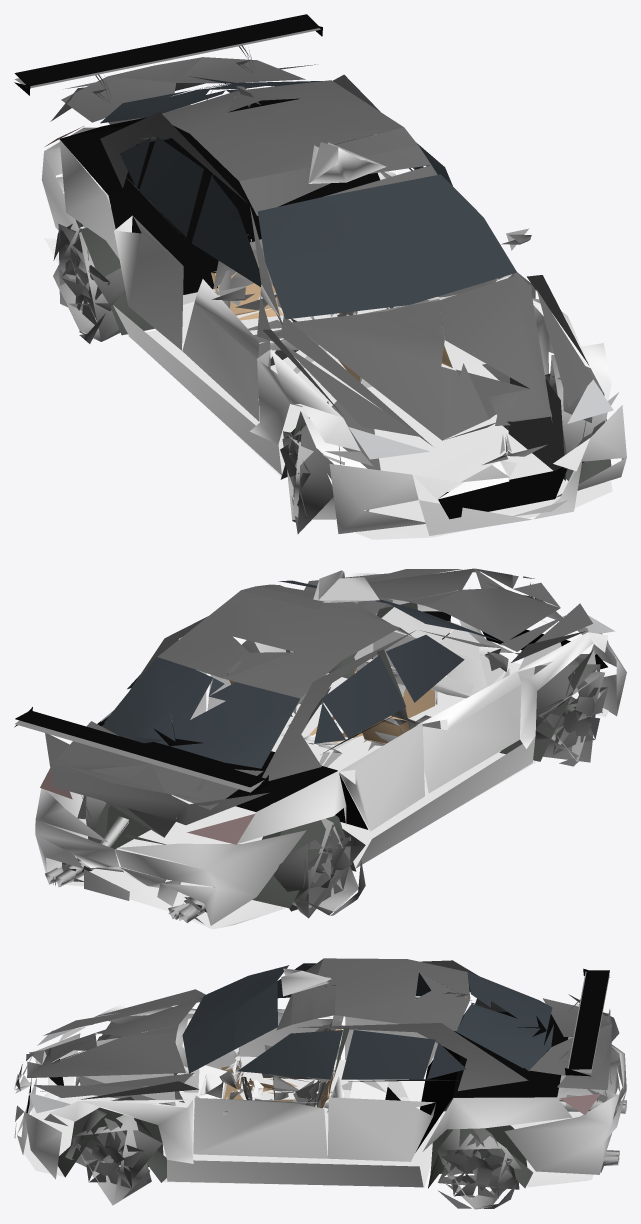
Rendered from bmw_lejos.glb.
3 views of the same model, one above another, from view 1: azimuth 30°, elevation 25°; view 2: azimuth 150°, elevation 25°; view 3: azimuth 270°, elevation 25° (orthographic). The views are drawn at different scales.
Visible parts, largest first — view 1: bmw; view 2: bmw; view 3: bmw.
Part boxes in pixels (box(x1,y1,x2,y2)): bmw: box(14, 14, 626, 539); bmw: box(14, 568, 626, 929); bmw: box(14, 958, 626, 1209).
Size of the model in its own units: 2.25 by 1.66 by 4.86.
